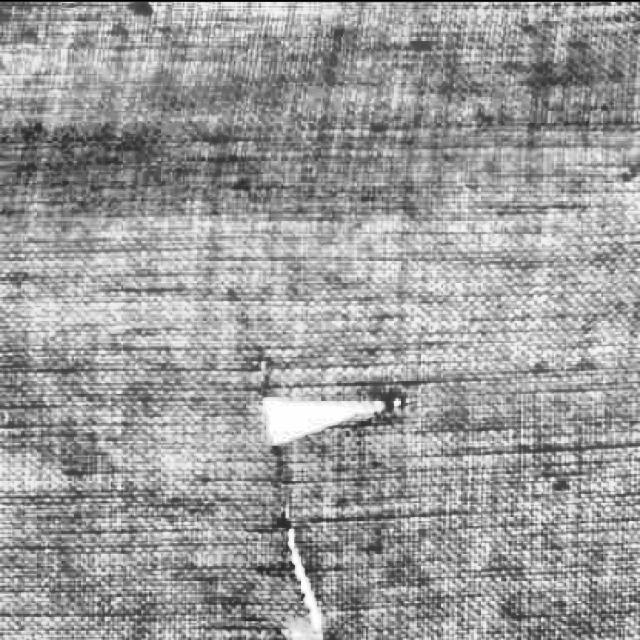hole: (243, 376, 412, 456), (261, 490, 332, 640)
